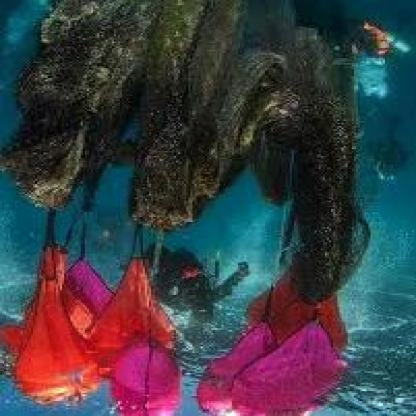net: (19, 0, 374, 209)
